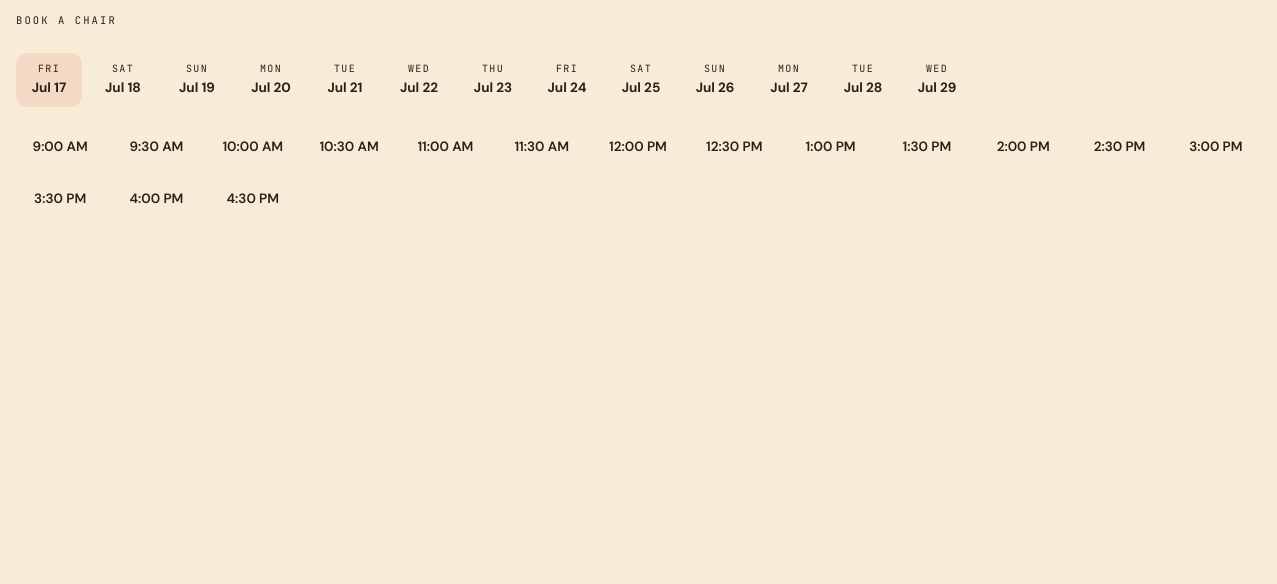
BarberBooking › surfaces a lost-race error and returns to the picker
Step 1. Click the button "9:00 AM" → (60, 147), box [16,125,104,169]
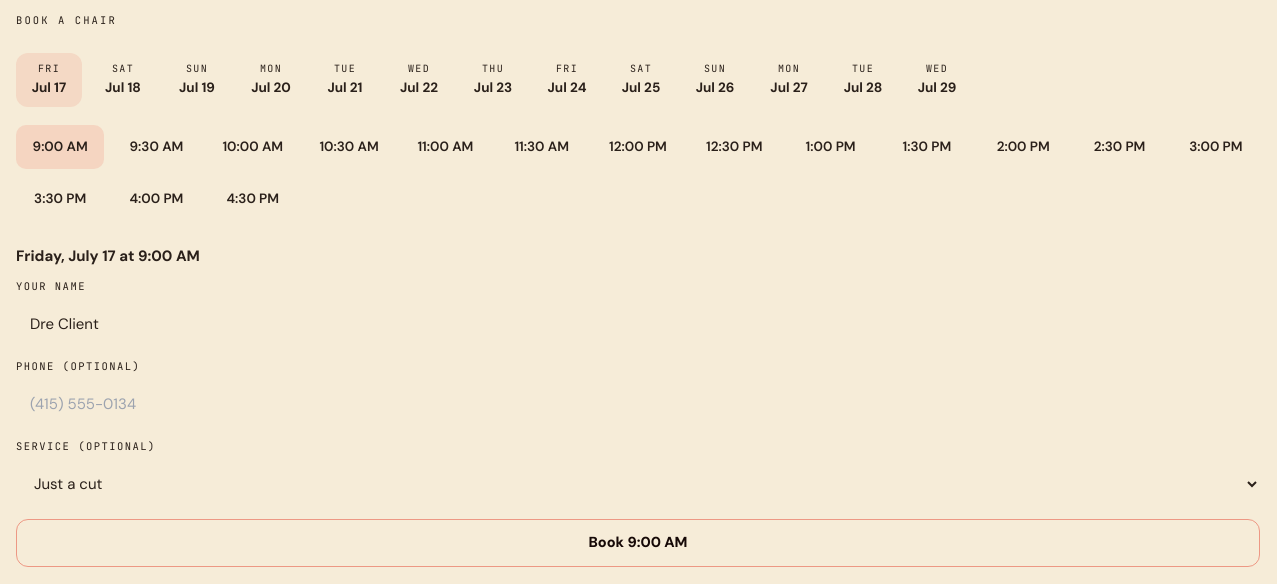
Step 2. Click the button "Book 9:00 AM" → (638, 542), box [16,518,1260,566]
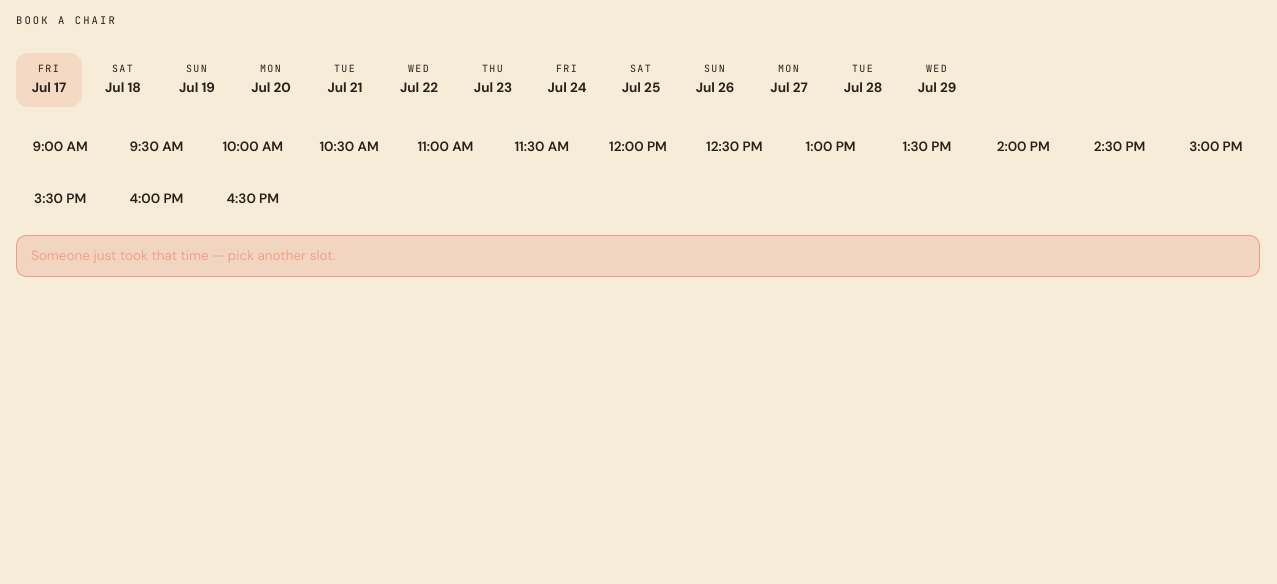
Result: the message shows "just took that time" at [31,247,335,264]
Result: the text labelled "Your name" is gone
